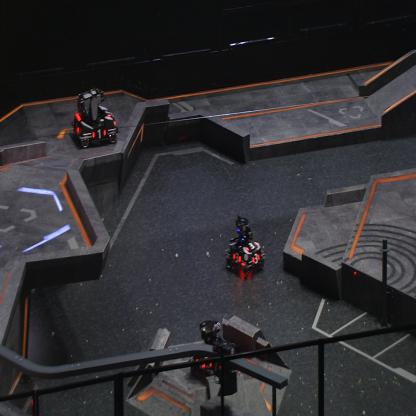car: (71, 86, 120, 147), (189, 317, 236, 378), (224, 215, 265, 276)
